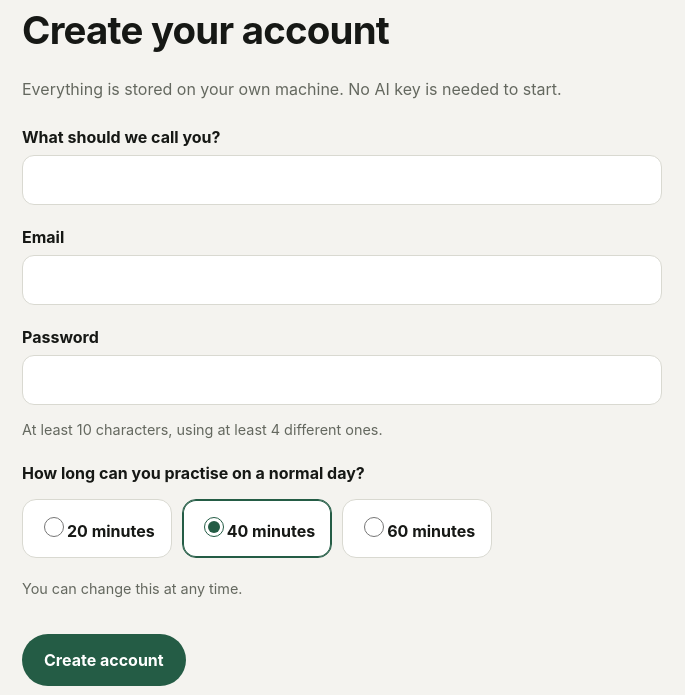
Test: errors › explains how to start the API when it cannot be reached
Type "Egor" into the field labelled "What should we call you?" at {"x": 342, "y": 180}, box [22, 155, 662, 205]
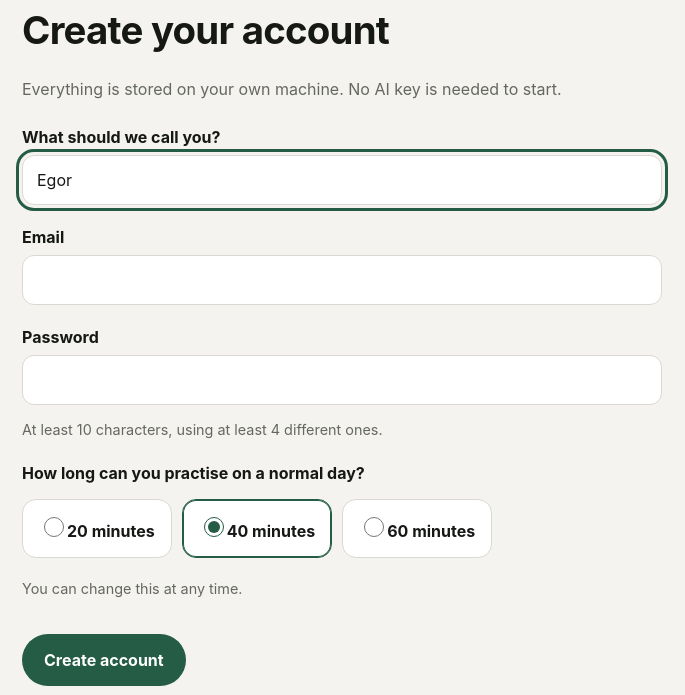
Type "egor@example.com" into the field labelled "Email" at {"x": 342, "y": 280}, box [22, 255, 662, 305]
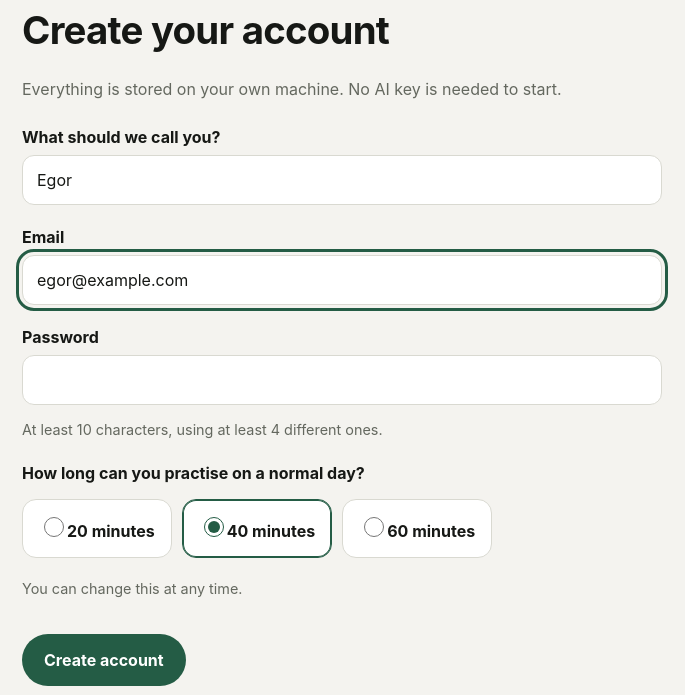
Type "correct-horse-9" into the password field labelled "Password" at {"x": 342, "y": 380}, box [22, 355, 662, 405]
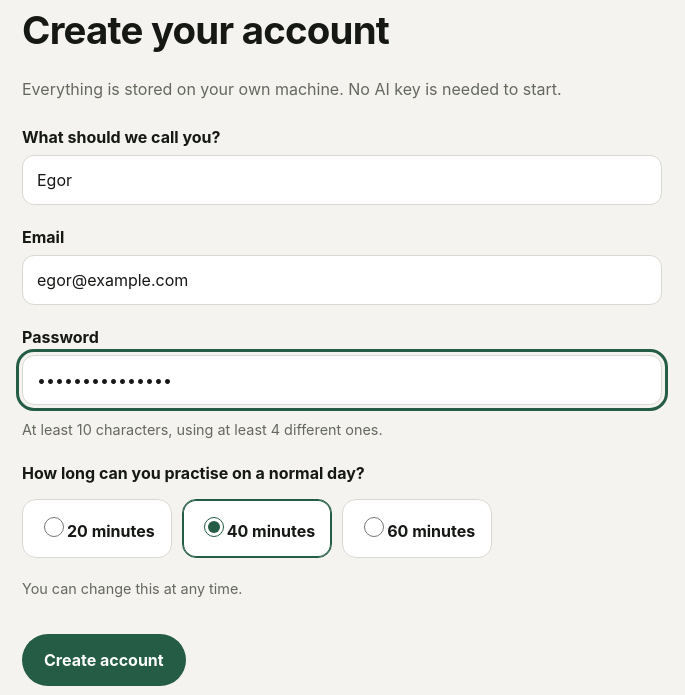
Click the button "Create account" at {"x": 104, "y": 660}, box [22, 634, 186, 686]
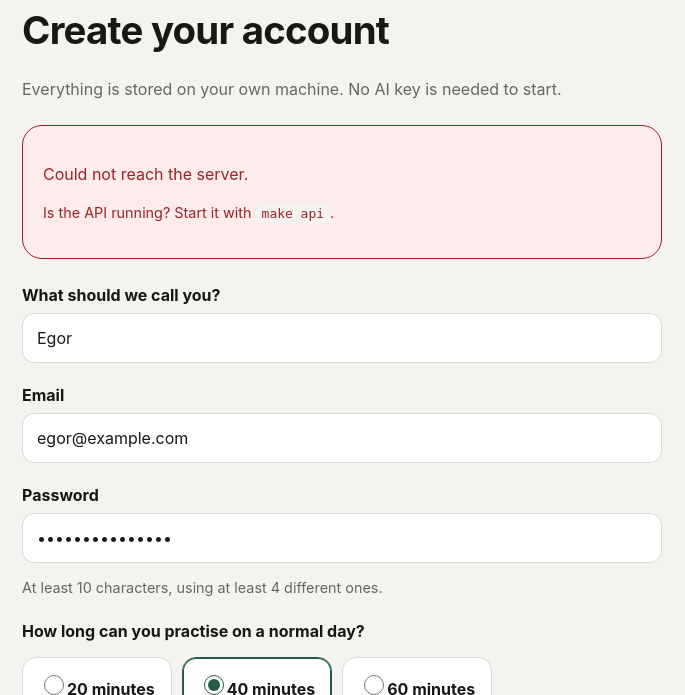
Expected: the message shows "make api", [262, 206, 324, 221]
